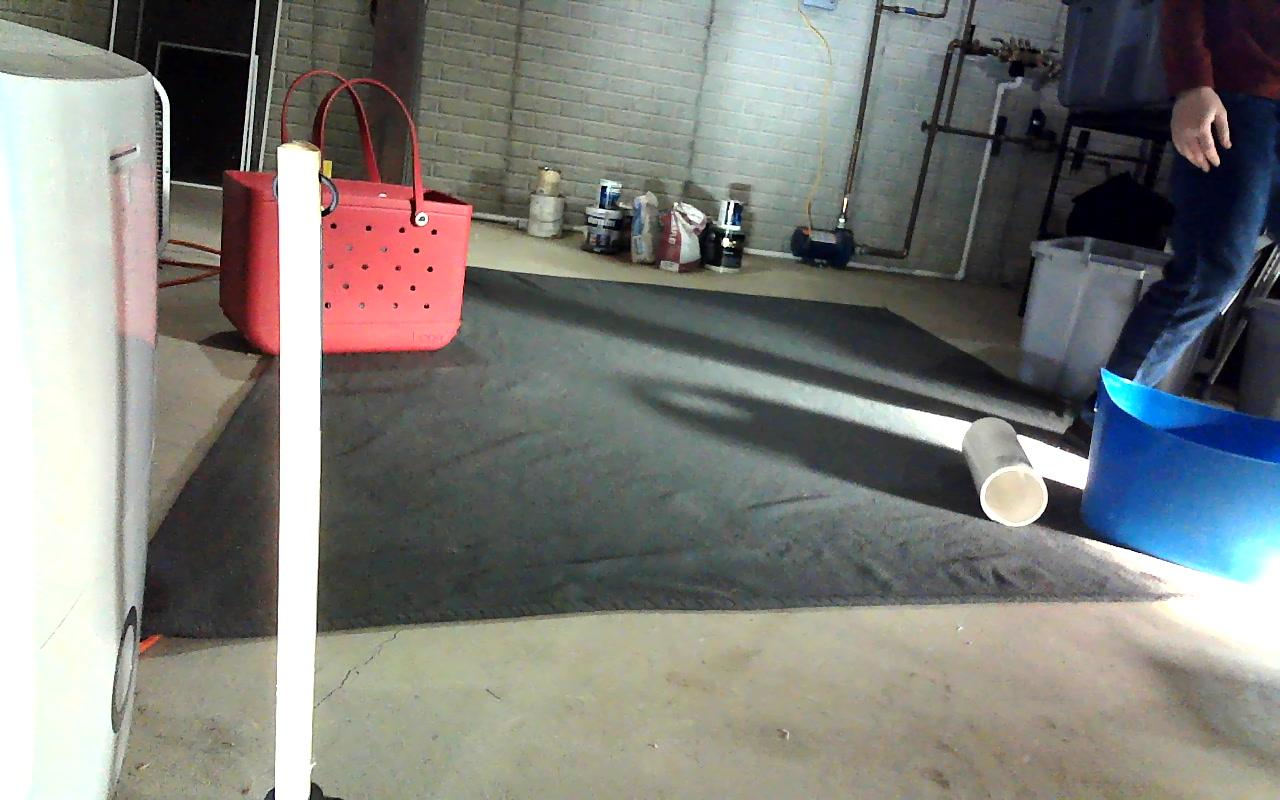coral: (962, 416, 1048, 525)
